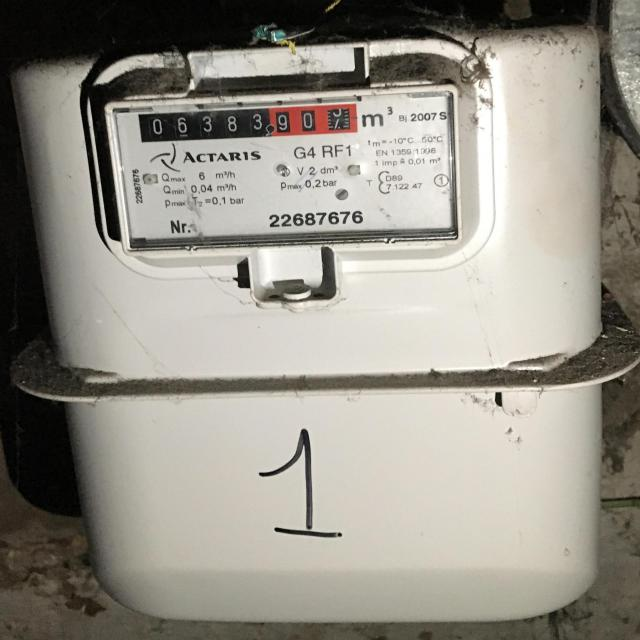gaz_meter: (109, 103, 466, 246)
indication: (135, 103, 355, 142)
